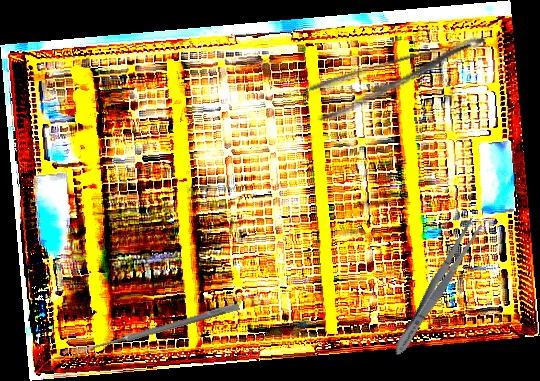Dressing Forceps: (306, 32, 496, 123), (387, 215, 487, 360)
Surgical Spoon: (75, 301, 240, 357)
